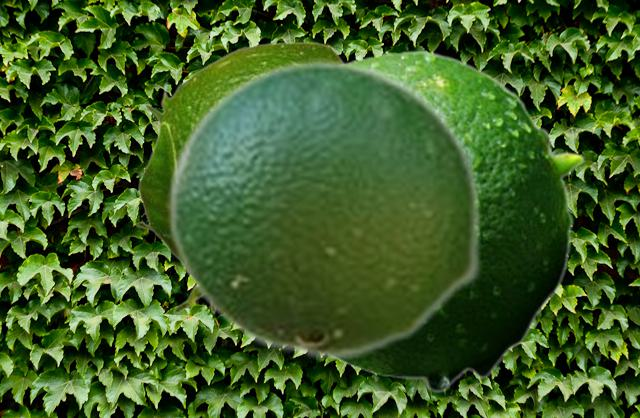dalandan: (166, 58, 482, 361), (335, 49, 584, 393), (134, 41, 342, 314)
